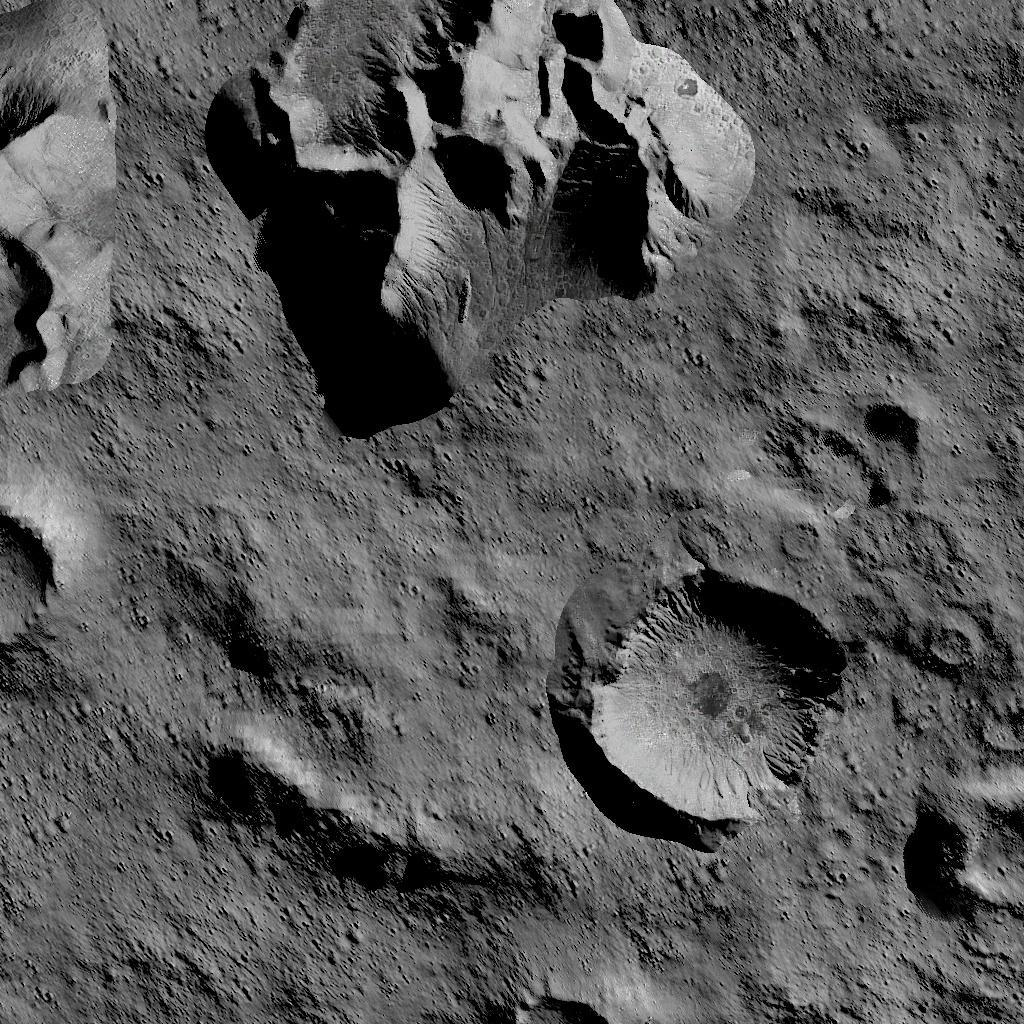Boulders: (214, 0, 752, 443), (206, 725, 560, 908), (0, 2, 118, 406)
Crater: (584, 562, 852, 840), (896, 765, 1024, 920), (0, 502, 68, 658), (494, 982, 620, 1024)
Plan surface: (768, 0, 1024, 398), (0, 670, 193, 1024), (208, 920, 483, 1024)
